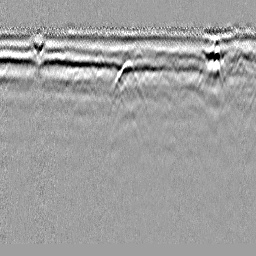cavity: (110, 59, 143, 96)
